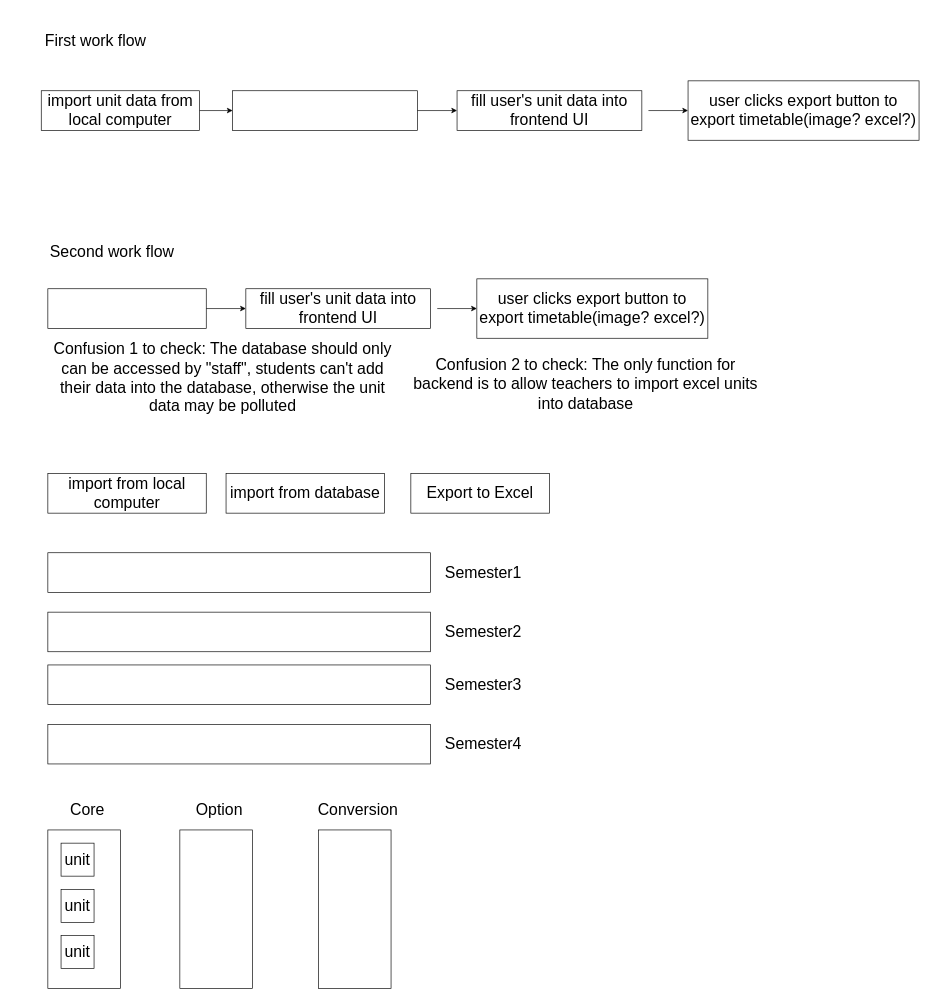
The diagram is 931 pixels wide and 1000 high, and some of its shapes have lost their labels. Each missing label, with the centre of its shape:
"get user's excel file" goes at point (324, 110).
"import unit data from database" goes at point (126, 308).
